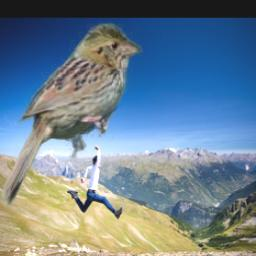Sparrow: (0, 20, 144, 207)
